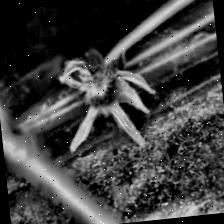Gray Mold: (56, 43, 161, 155)
